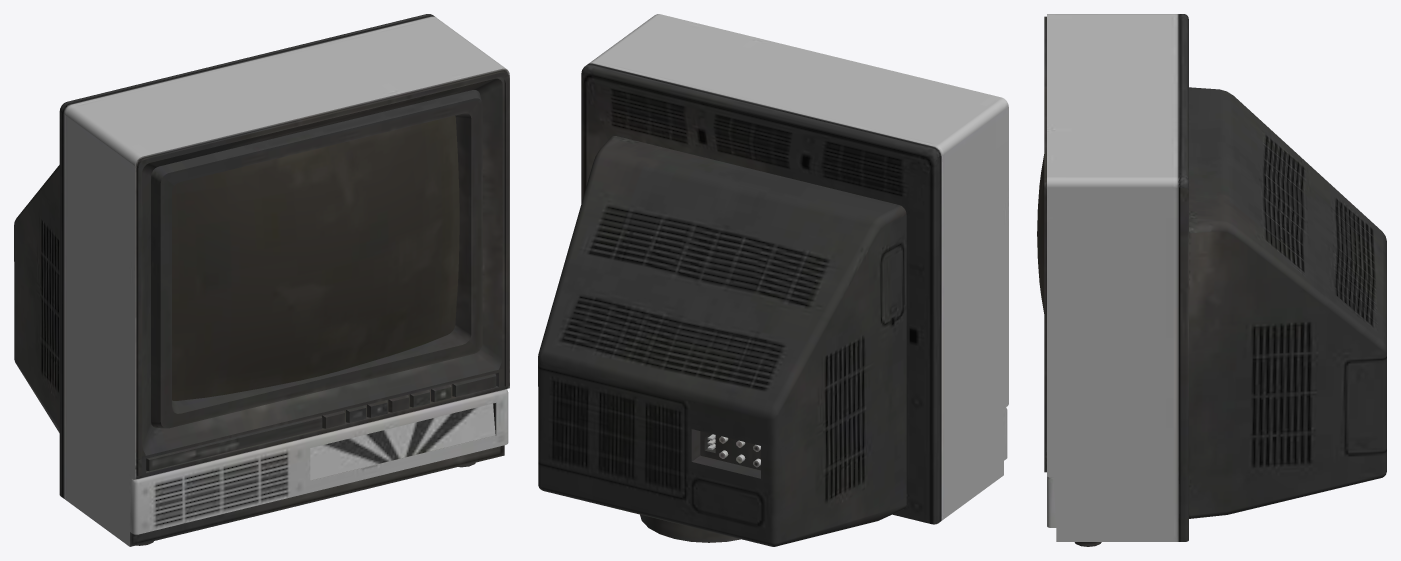
The model's file is television_02.glb.
The picture shows the model from 3 angles, left to right: view 1: azimuth 30°, elevation 25°; view 2: azimuth 150°, elevation 25°; view 3: azimuth 270°, elevation 25°; orthographic projection. The views are drawn at different scales.
Visible parts, largest first — view 1: television_02; view 2: television_02; view 3: television_02.
Boxes of the visible parts, bbox=[...] form: television_02: bbox=[14, 14, 509, 546]; television_02: bbox=[538, 14, 1008, 546]; television_02: bbox=[1037, 14, 1386, 546].
Size of the model in its own units: 0.3997 by 0.4114 by 0.3502.
1 material, 1 textured.
